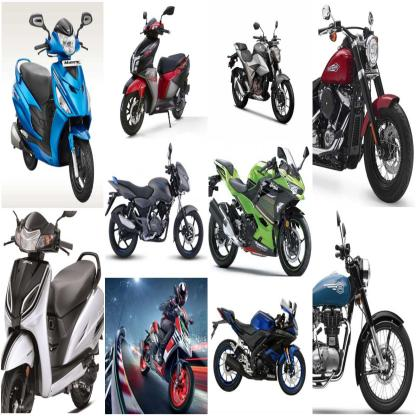bike: (312, 1, 416, 202), (0, 212, 102, 416), (310, 224, 414, 416), (7, 12, 95, 197), (209, 148, 311, 278), (106, 143, 203, 259), (211, 306, 317, 393), (123, 7, 190, 135), (228, 19, 297, 123), (139, 316, 196, 406)
